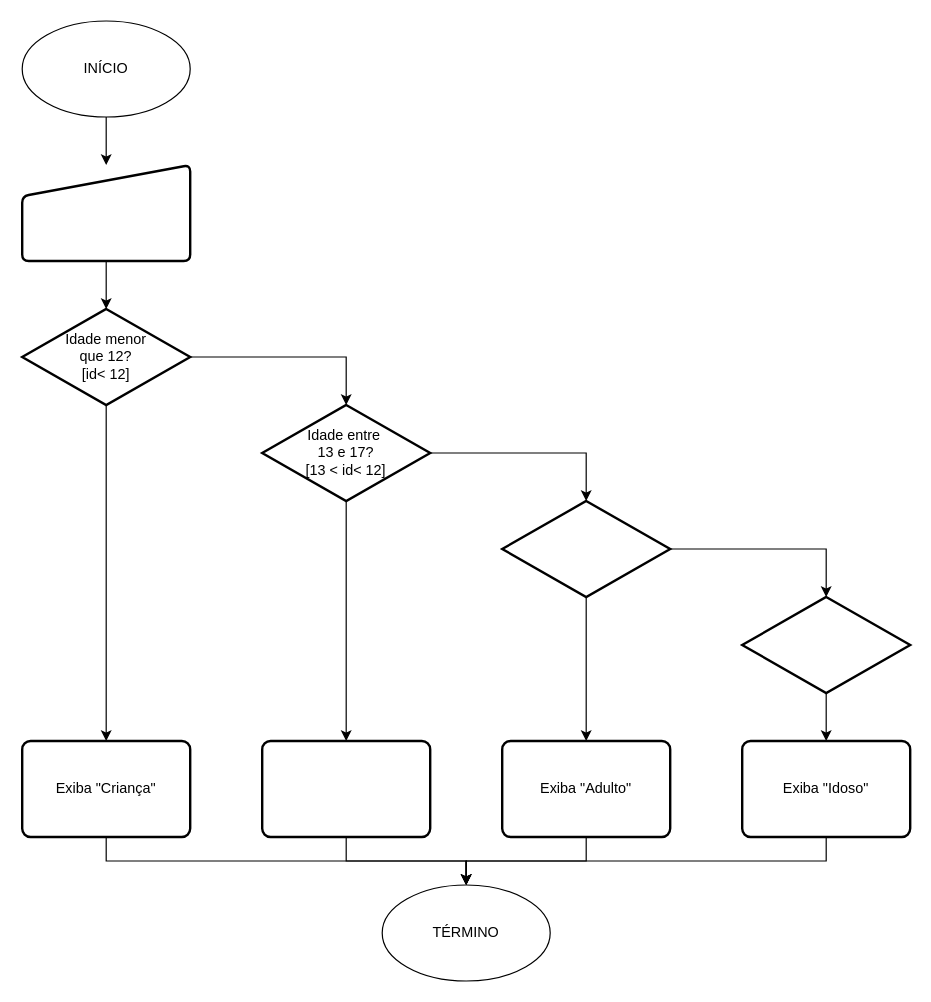
Image size: 931x1002. Some labels were removed from this diagram. Here are the shapes that lost their labels. From the top down, the box of each, then its label:
(20, 163, 191, 262): "Informe sua idade" = id
(500, 499, 671, 598): Idade entre 18 e 59? [18 < id < 59]
(740, 595, 911, 694): Idade igual ou superior a 60 ? [id >= 60]
(260, 739, 431, 838): Exiba "Adolescente"
